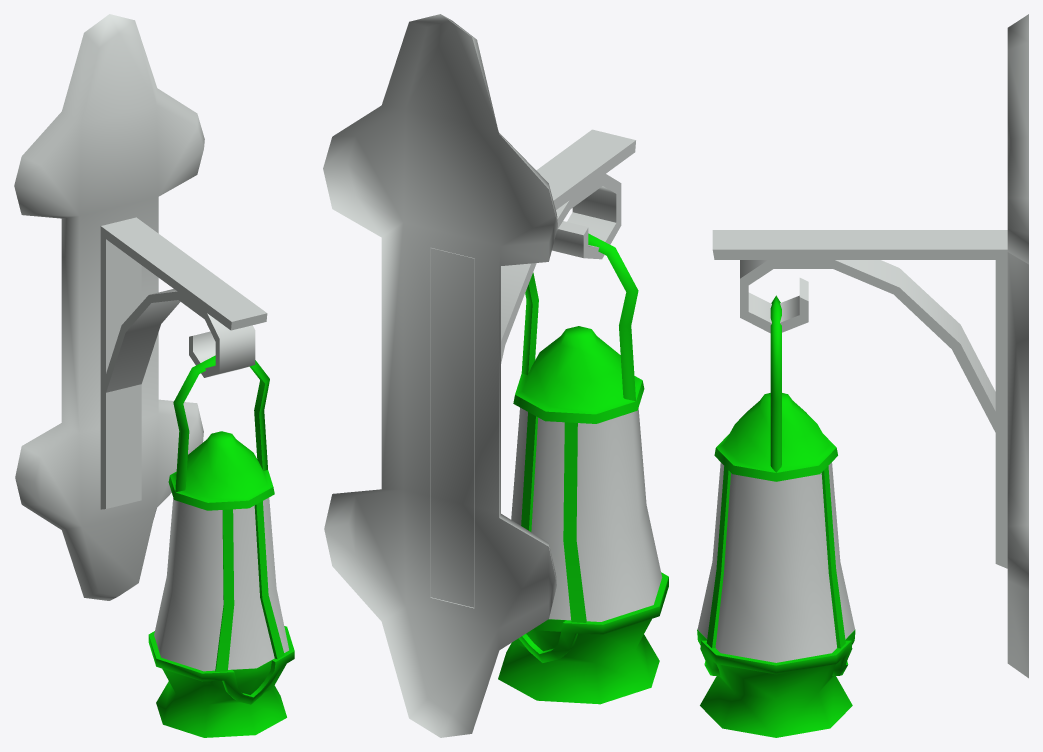
3 renders of one model, left to right at view 1: azimuth 30°, elevation 25°; view 2: azimuth 150°, elevation 25°; view 3: azimuth 270°, elevation 25°, orthographic. The views are drawn at different scales.
Visible parts, largest first — view 1: G:\FFXIV-MapTools\exports\f1f2\bg\ffxiv\fst_f1\fld\f1f2\bgpa (×3); view 2: G:\FFXIV-MapTools\exports\f1f2\bg\ffxiv\fst_f1\fld\f1f2\bgpa (×3); view 3: G:\FFXIV-MapTools\exports\f1f2\bg\ffxiv\fst_f1\fld\f1f2\bgpa (×3).
Boxes of the visible parts, x1,y1,x2,y2 form: G:\FFXIV-MapTools\exports\f1f2\bg\ffxiv\fst_f1\fld\f1f2\bgpa (×3): (14,14,294,737); G:\FFXIV-MapTools\exports\f1f2\bg\ffxiv\fst_f1\fld\f1f2\bgpa (×3): (323,14,668,737); G:\FFXIV-MapTools\exports\f1f2\bg\ffxiv\fst_f1\fld\f1f2\bgpa (×3): (697,14,1028,737).
Size of the model in its own units: 0.2959 by 0.9106 by 0.396.
